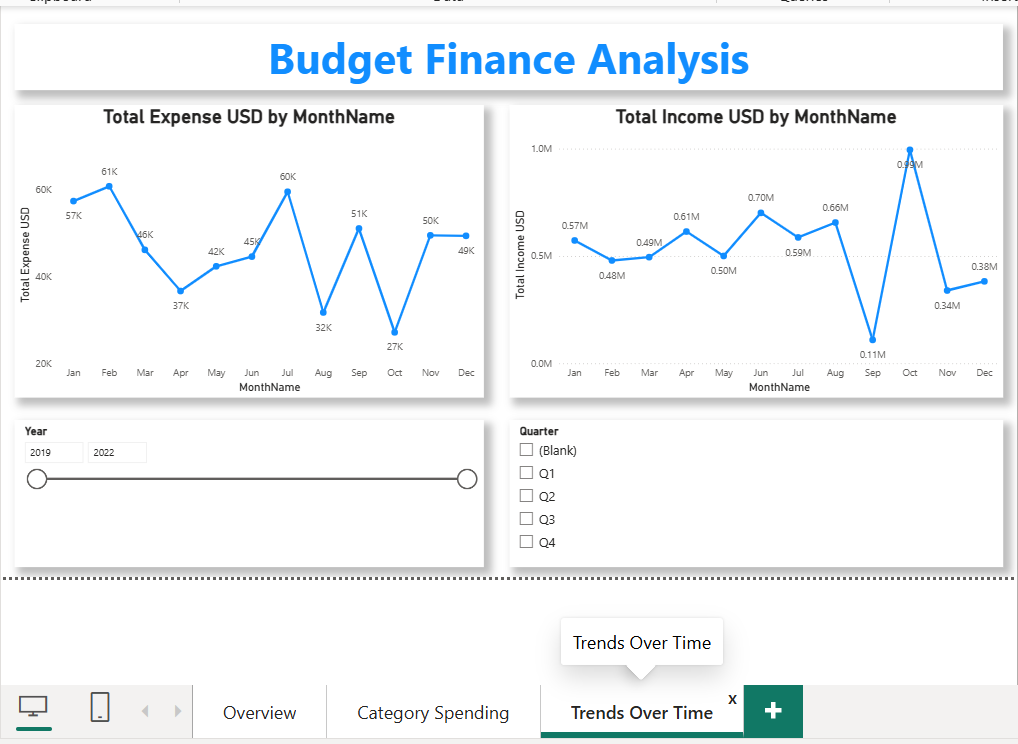

The dashboard page shown, as its layout file describes it:
{"tool":"powerbi","page":{"name":"Trends Over Time","canvas":[1280,720],"ordinal":2},"visuals":[{"type":"slicer","fields":{"Values":["DateTable.Year"]},"box":[17,521.6,591.5,185.2],"z":2},{"type":"slicer","fields":{"Values":["DateTable.Quarter"]},"box":[640.6,521.6,621.7,185.2],"z":3},{"type":"textbox","box":[17,22.7,1245.4,83.2],"z":4},{"type":"lineChart","fields":{"Category":["DateTable.MonthName"],"Y":["BudgedWise_Finance_Clean.Total Expense USD"]},"box":[17,124.7,591.5,368.5],"z":5},{"type":"lineChart","fields":{"Category":["DateTable.MonthName"],"Y":["BudgedWise_Finance_Clean.Total Income USD"]},"box":[640.6,124.7,621.7,368.5],"z":6}]}

Visuals, with their boxes on the page's 1280x720 design canvas (x1, y1, x2, y2). These are canvas units, not pixel positions in the 1018x744 screenshot, which may show the page scaled, cropped or inside an application window:
slicer - DateTable.Year: box(17, 522, 608, 707)
slicer - DateTable.Quarter: box(641, 522, 1262, 707)
textbox: box(17, 23, 1262, 106)
lineChart - DateTable.MonthName x BudgedWise_Finance_Clean.Total Expense USD: box(17, 125, 608, 493)
lineChart - DateTable.MonthName x BudgedWise_Finance_Clean.Total Income USD: box(641, 125, 1262, 493)
